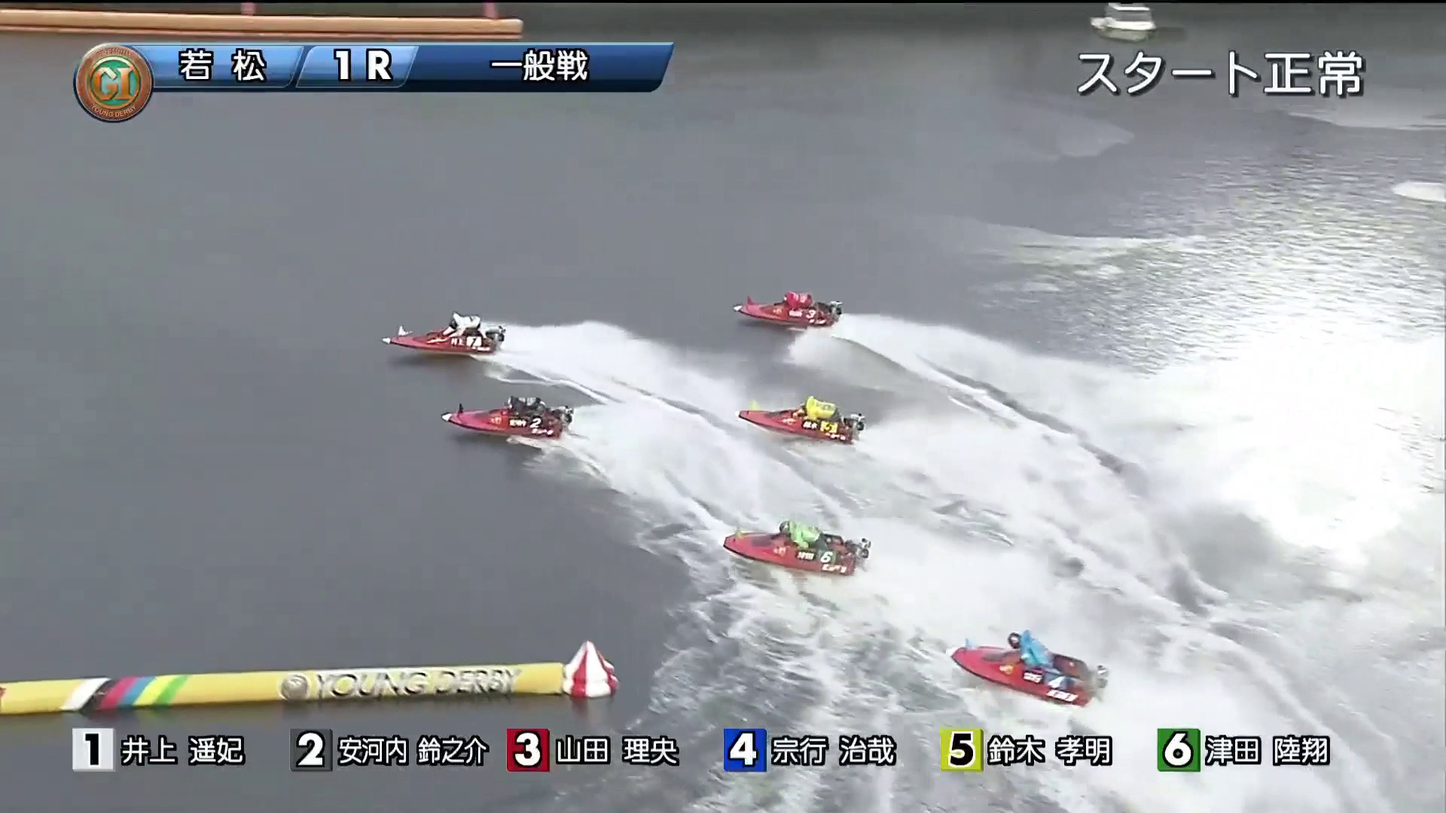１号艇: (400, 278, 470, 331)
２号艇: (425, 370, 554, 431)
３号艇: (755, 260, 853, 315)
４号艇: (737, 500, 871, 565)
５号艇: (983, 643, 1106, 698)
６号艇: (741, 357, 841, 437)
